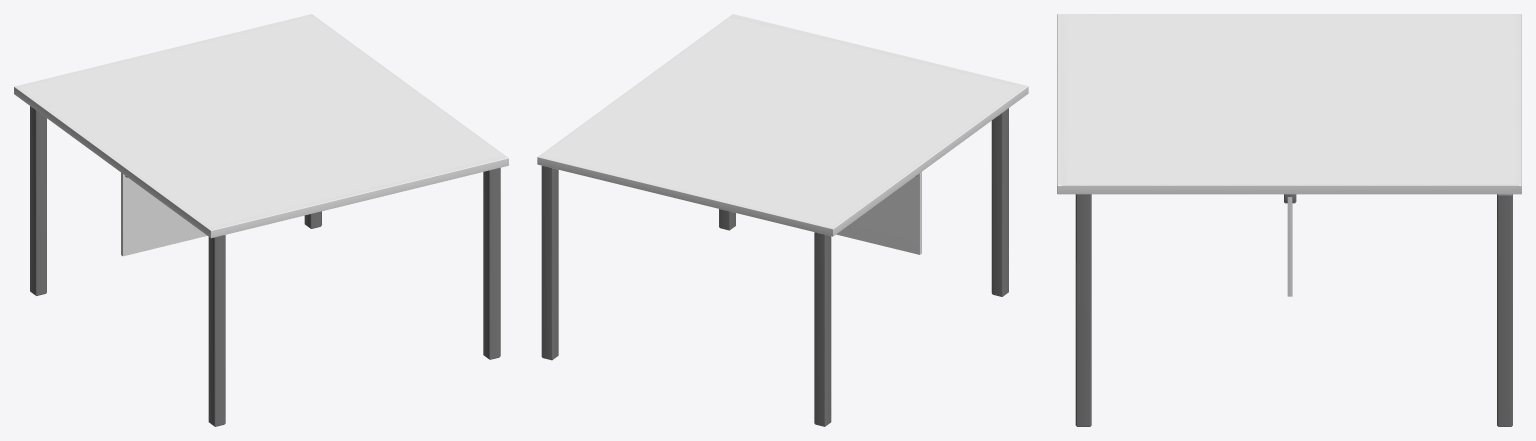
The model's file is pc_table_top_2.fbx.
The picture shows the model from 3 angles, left to right: view 1: azimuth 30°, elevation 25°; view 2: azimuth 150°, elevation 25°; view 3: azimuth 270°, elevation 25°; orthographic projection. The views are drawn at different scales.
Parts seen in each view (by area): view 1: pc_table_top, steel_table_part, pc_table_stand3, pc_table_stand1, pc_table_stand5; view 2: pc_table_top, steel_table_part, pc_table_stand6, pc_table_stand5, pc_table_stand3; view 3: pc_table_top, pc_table_stand1, pc_table_stand6, steel_table_part.
Part boxes in pixels (x1,y1,x2,y2): pc_table_top: (14, 14, 508, 238); steel_table_part: (121, 172, 206, 256); pc_table_stand3: (208, 235, 225, 426); pc_table_stand1: (483, 167, 500, 359); pc_table_stand5: (30, 106, 46, 295); pc_table_top: (537, 14, 1028, 236); steel_table_part: (836, 172, 921, 254); pc_table_stand6: (541, 166, 558, 360); pc_table_stand5: (814, 232, 831, 426); pc_table_stand3: (991, 108, 1008, 296); pc_table_top: (1057, 14, 1521, 194); pc_table_stand1: (1075, 194, 1091, 426); pc_table_stand6: (1497, 194, 1512, 426); steel_table_part: (1287, 197, 1292, 296).
Bounding box in the file's own units: 116 × 76.3 × 133.
Materials: 1 (1 with a texture image).
